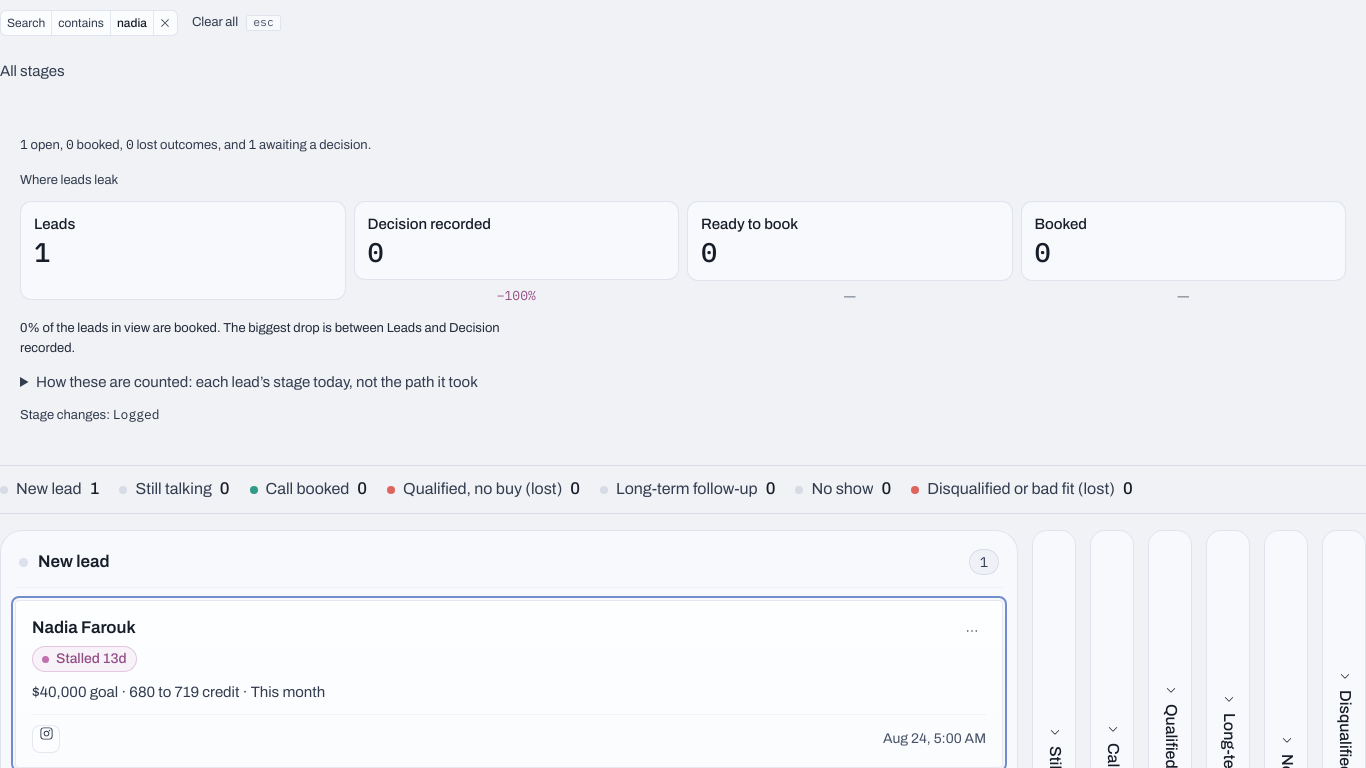
Test: LeadsSurface › opens the appointment evidence flow before moving a lead to Booked
This screenshot has width=1366, height=768.
(page scrolled)
Press m in the element named "Open Nadia Farouk", box 15,600 -> 1003,767
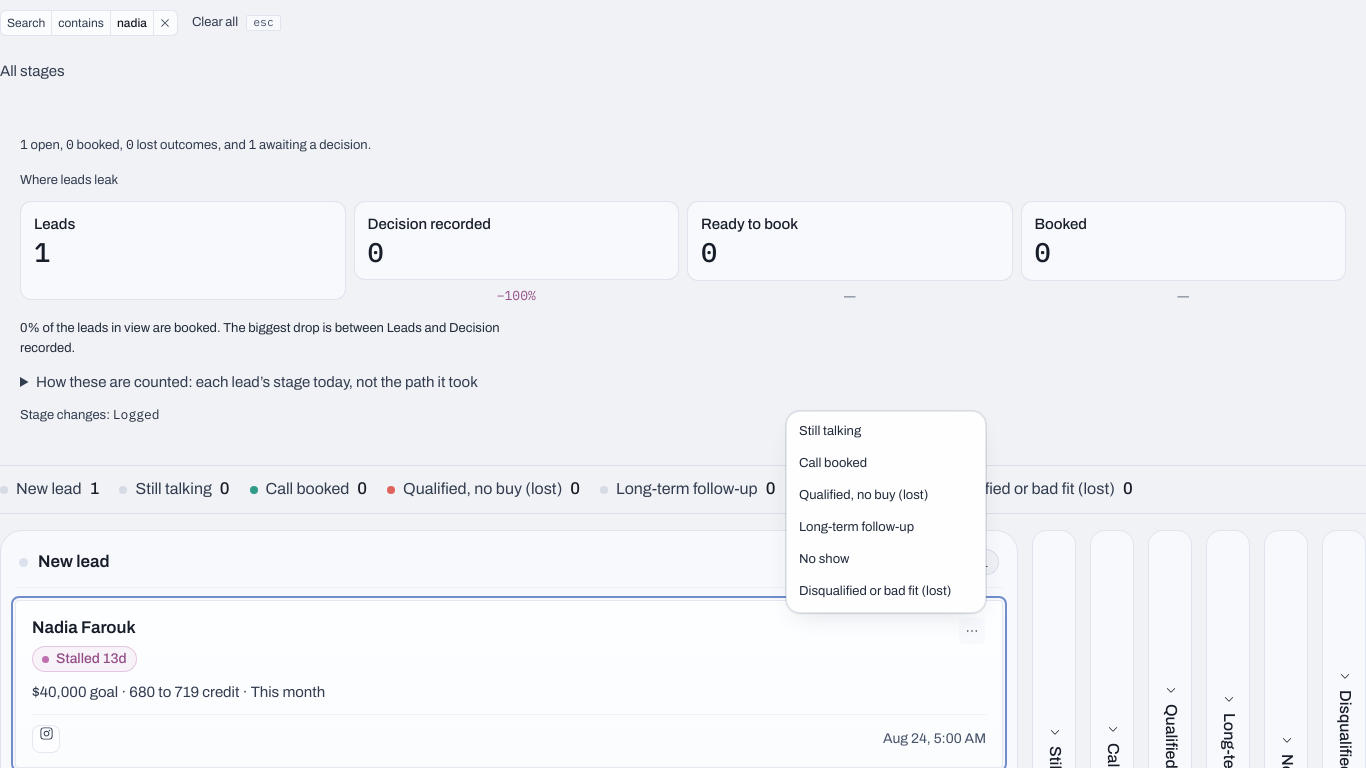
Click the menu item "Call booked" at (833, 463), box 799,456 -> 867,470
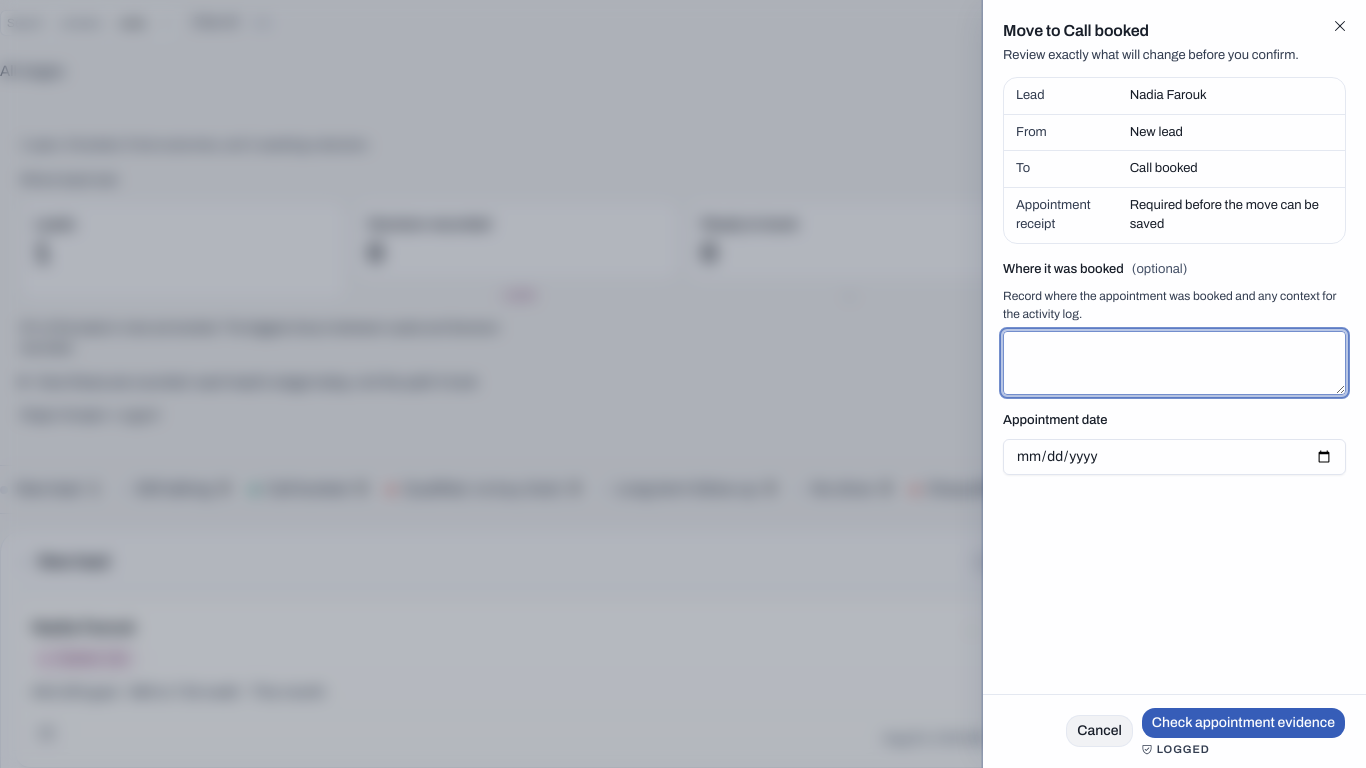
expect the number of headings "Move to Call booked" is 2: met
expect the date field labelled "Appointment date" is shown: met, box 1003,439 -> 1346,475
expect the text box labelled "Where it was booked (optional)" is shown: met, box 1003,331 -> 1346,395
